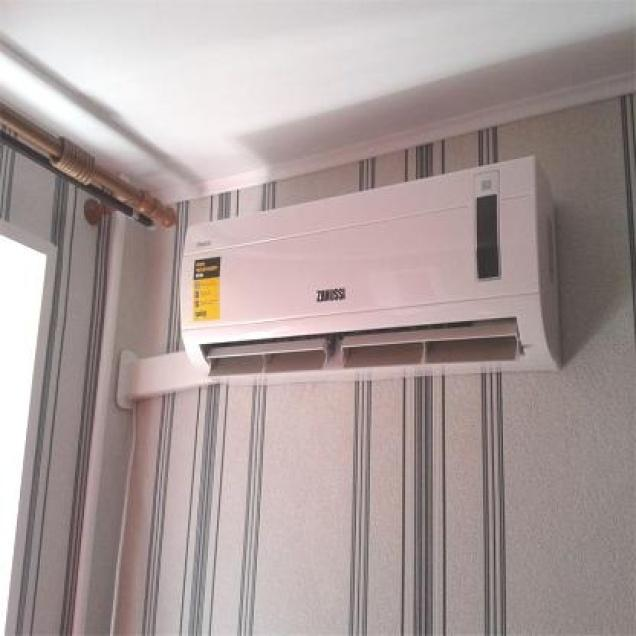AC: (179, 153, 563, 383)
